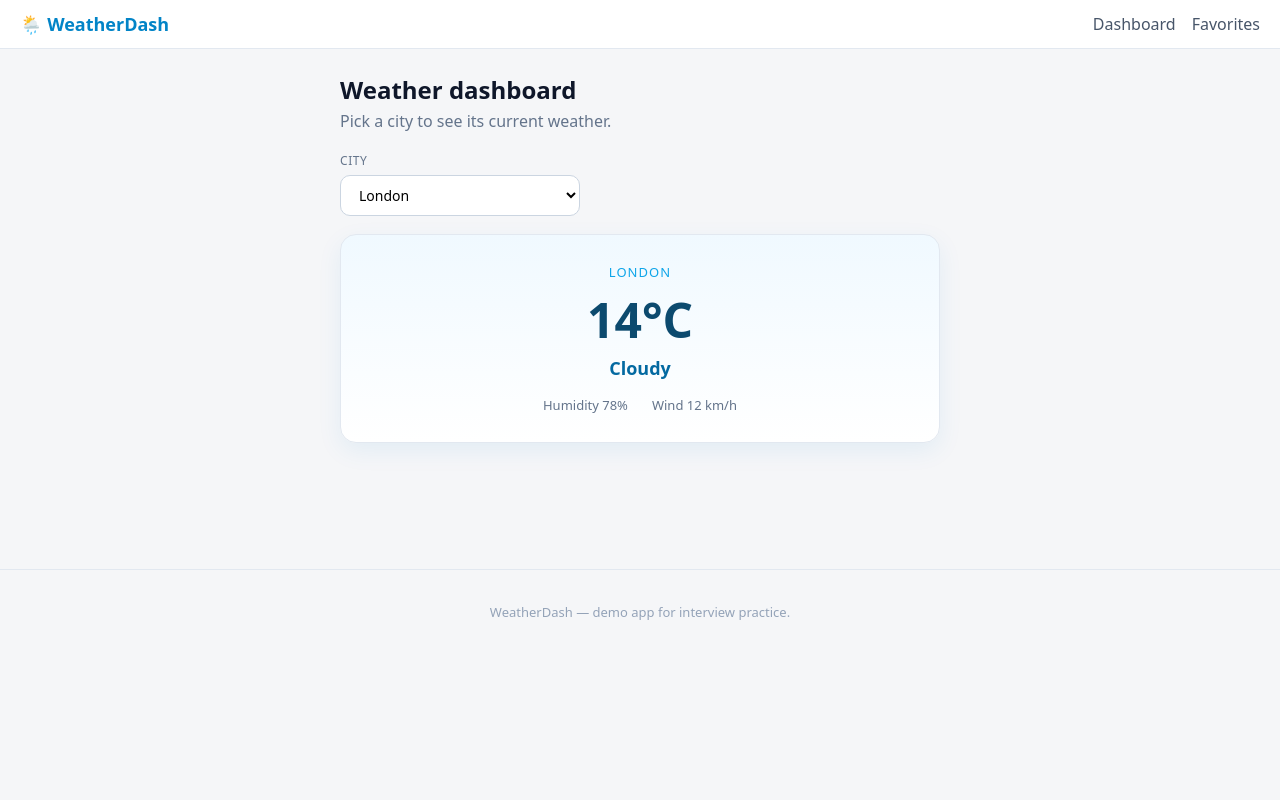
it: m05 · WeatherDash — refetch on city change (missing effect dep) › navigates to the favorites page via the navbar
The image size is (1280, 800).
Step 1. Click the link with test id "nav-favorites" → (1226, 24), box [1192,13,1260,35]
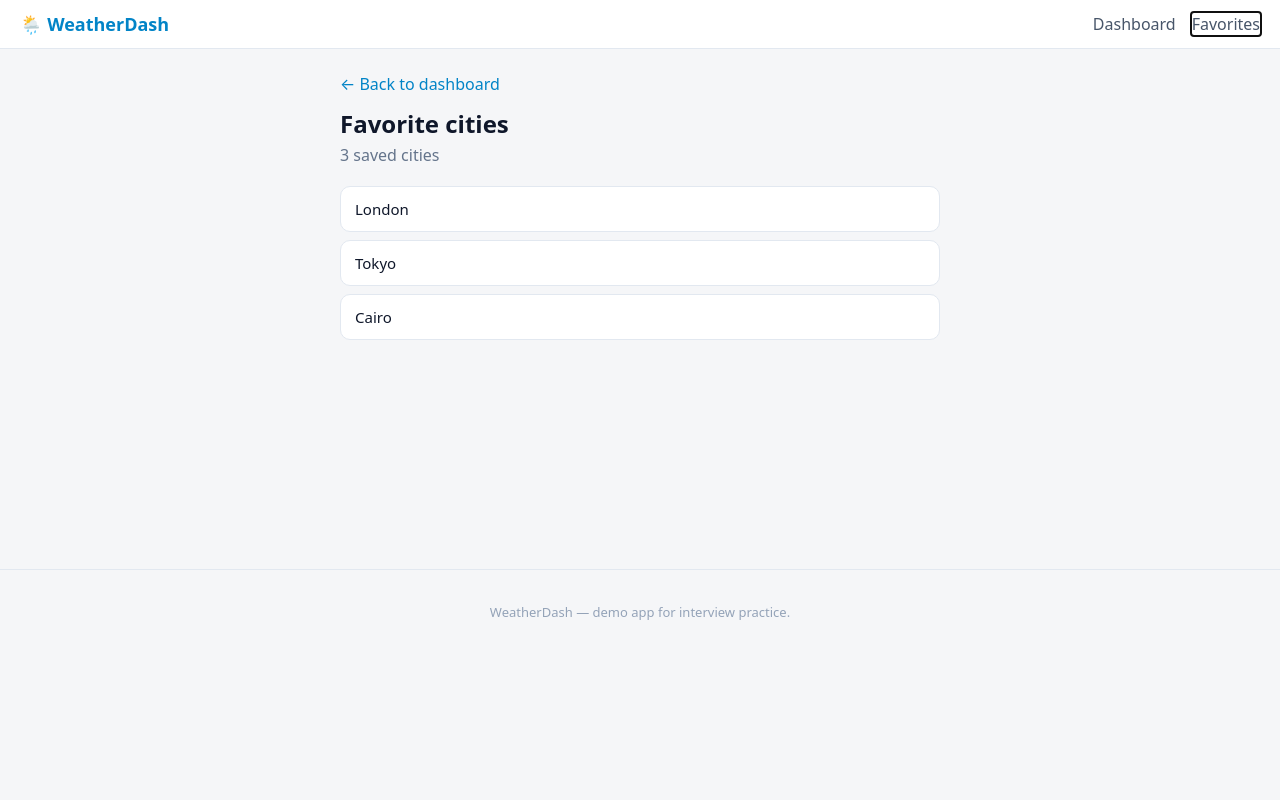
Expected: the list item with test id "favorite-row" showing "London" is shown, [340,186,940,232]
Expected: the element with test id "favorites-page" is shown, [320,49,960,372]
